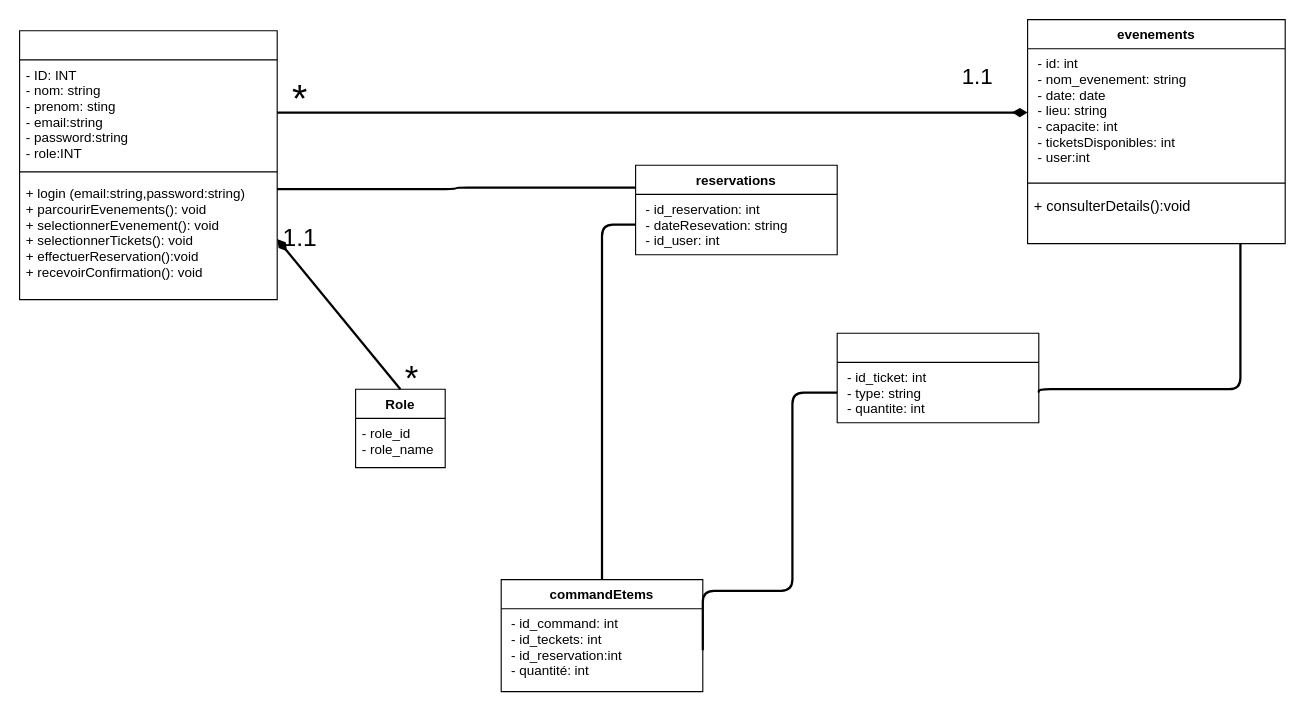
Some shapes in this 1305 by 715 pixel diagram are drawn without their labels. The box of each missing label's shape, as (x1, y1, x2, y2) in pixels:
tickets: (836, 332, 1039, 423)
users: (18, 30, 277, 300)
